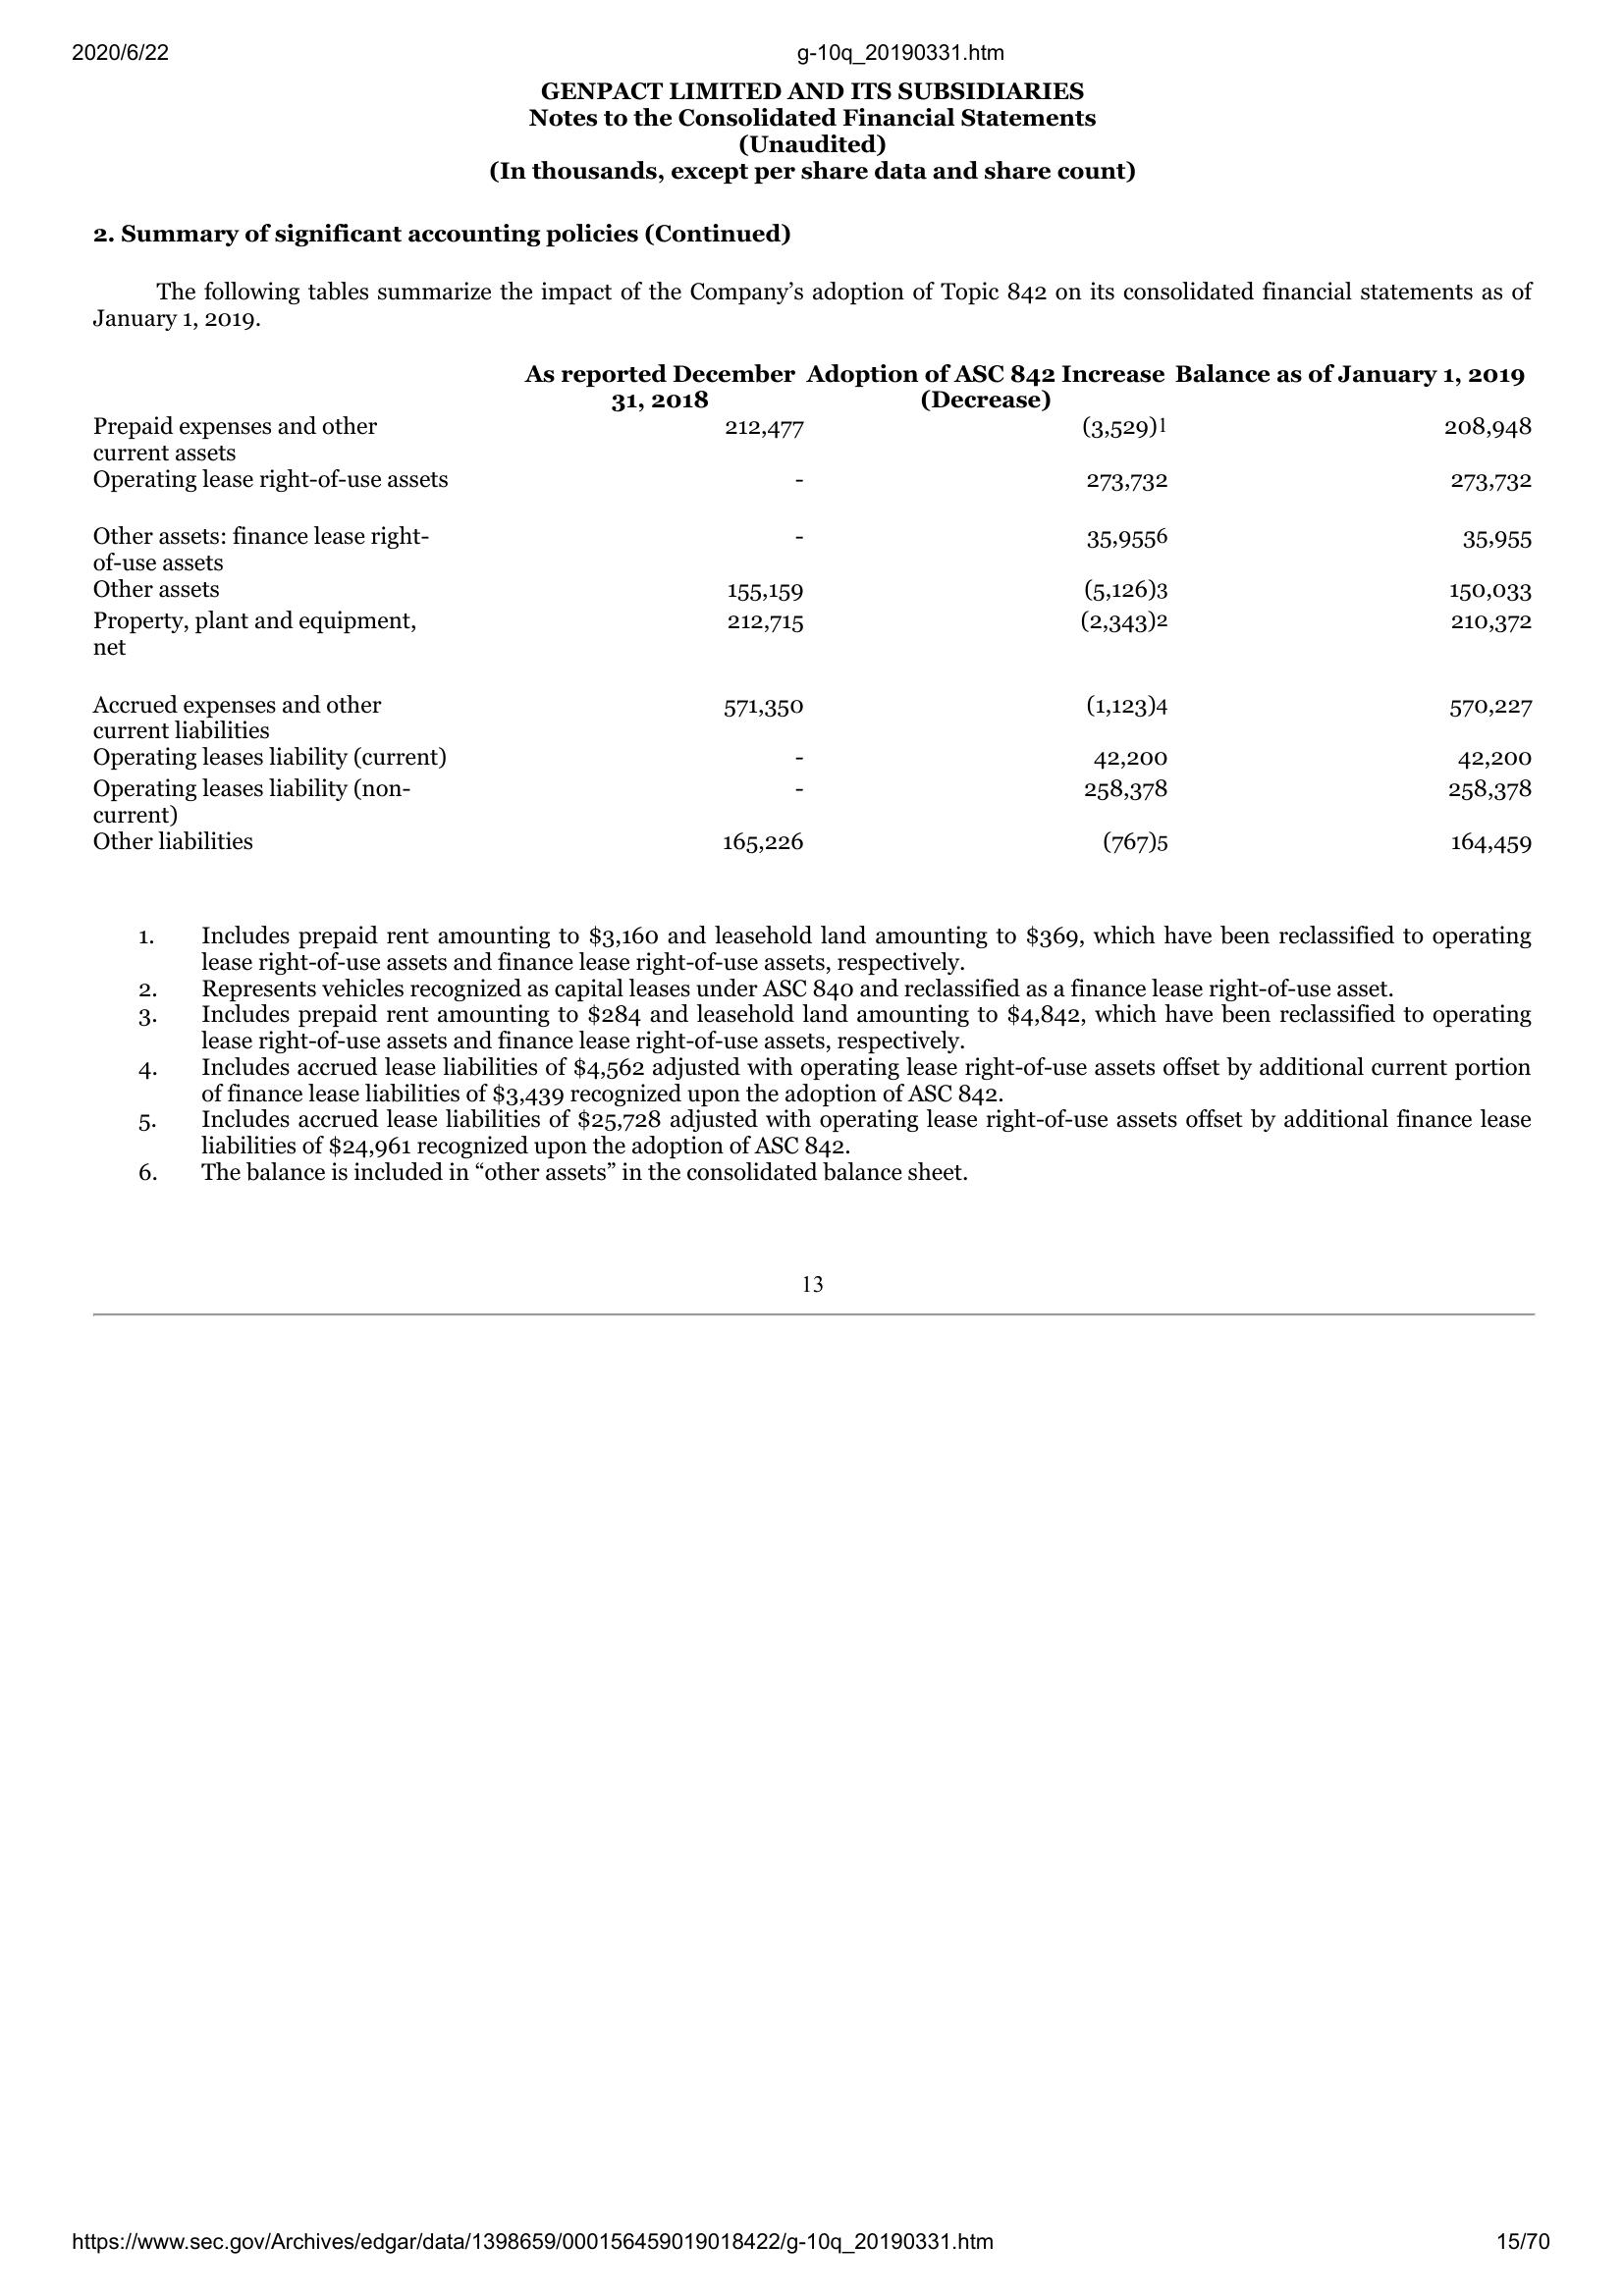table: (90, 355, 1540, 865)
